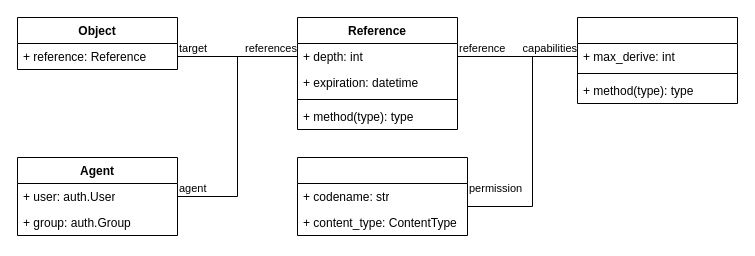
This 755x256 diagram has some shape labels left out. Here are the shapes that lost their labels. From the top down, the box of each, then its label:
(576, 16, 738, 104): Capability
(296, 156, 468, 236): auth.Permission
